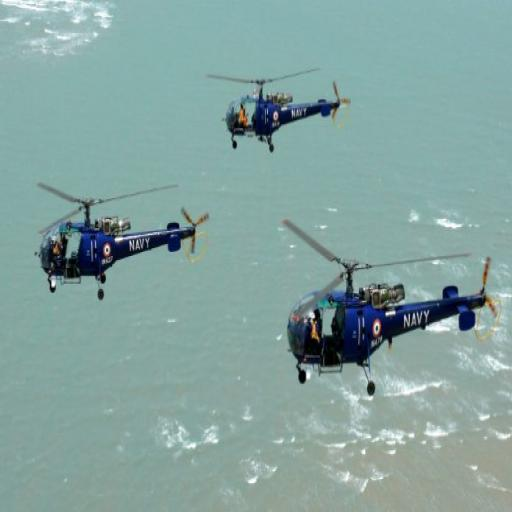helicopter: (281, 220, 508, 398), (31, 170, 217, 307), (208, 62, 357, 161)
